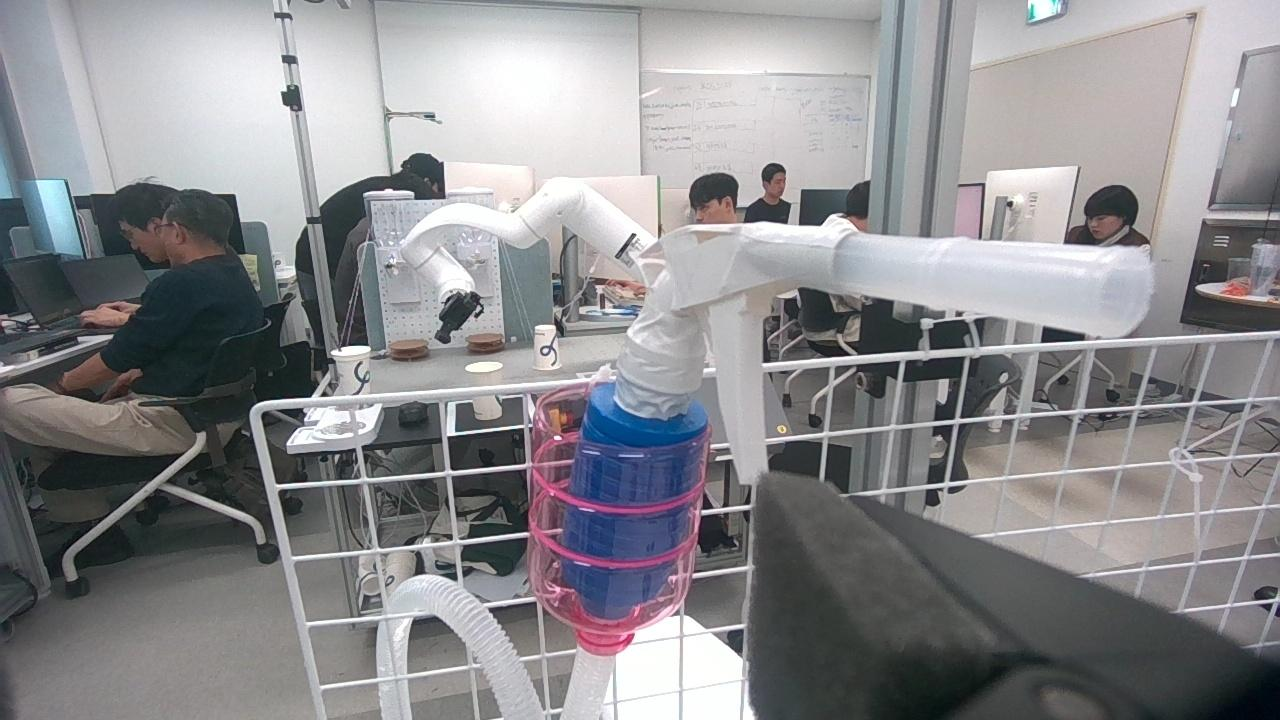Nozzle: (576, 226, 855, 591)
